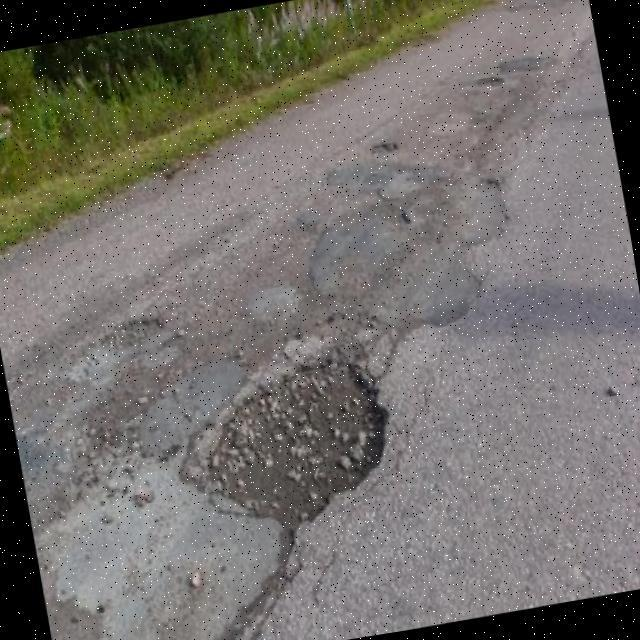Pothole: (179, 358, 389, 537)
